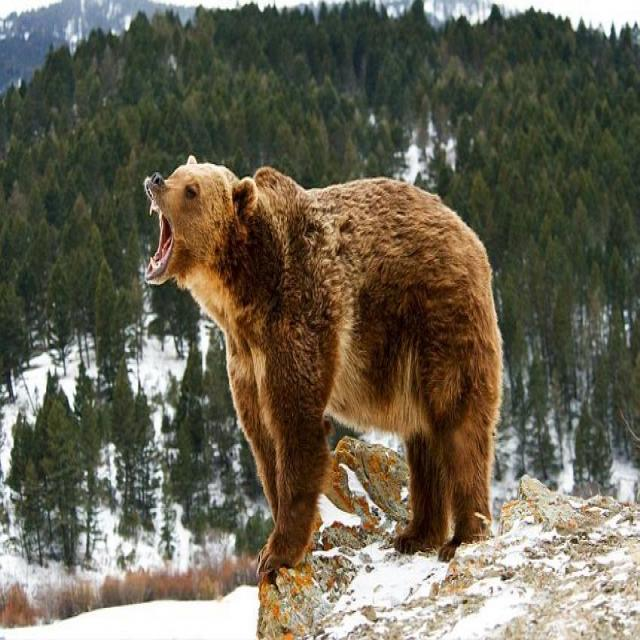Bear: (140, 161, 504, 611)
